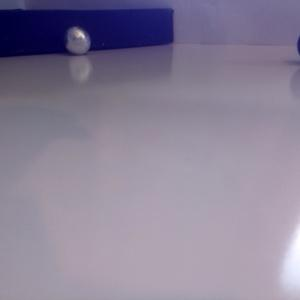zone: (1, 9, 174, 57)
